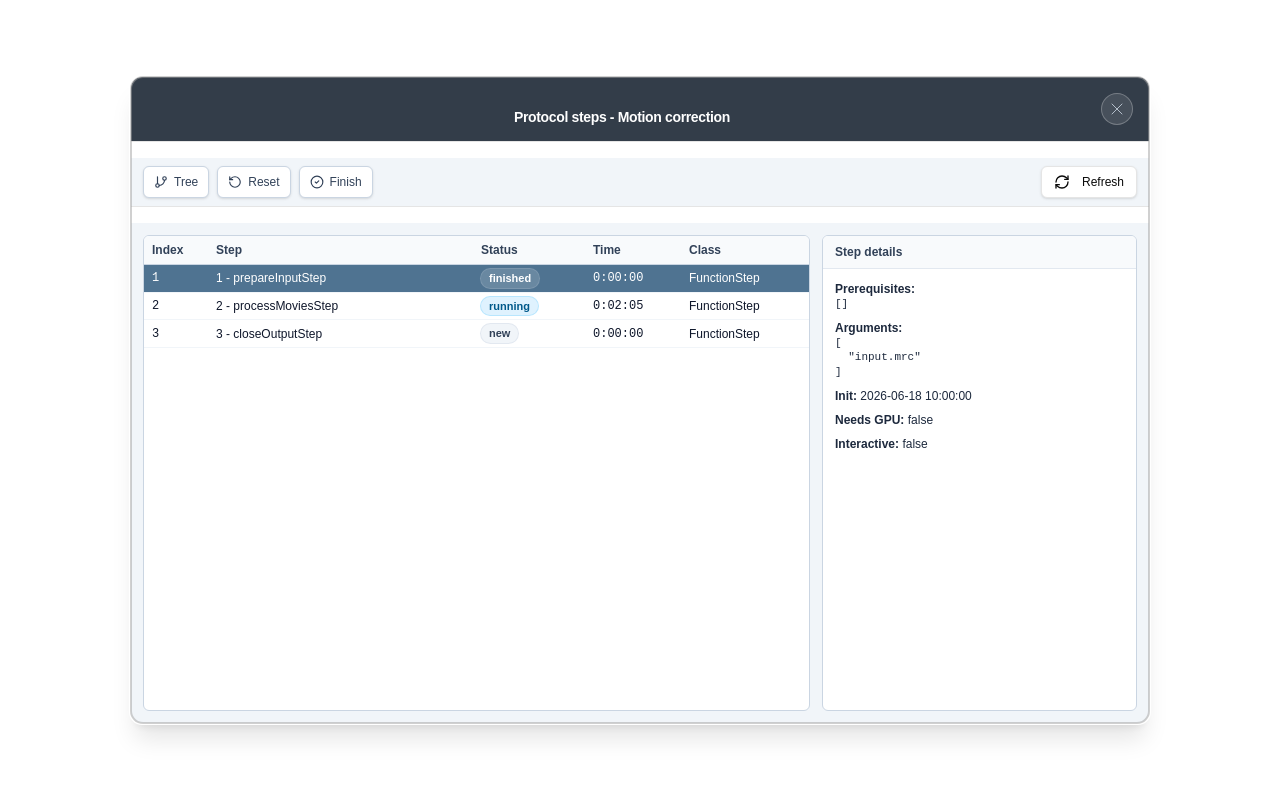
Test: ProtocolStepsDeveloperDialog › marks the selected step as finished
Expected: the text "1 - prepareInputStep" is shown, left=216, top=271, right=326, bottom=285
Click the text "2 - processMoviesStep". click: coordinates (277, 306)
box: left=216, top=299, right=338, bottom=313
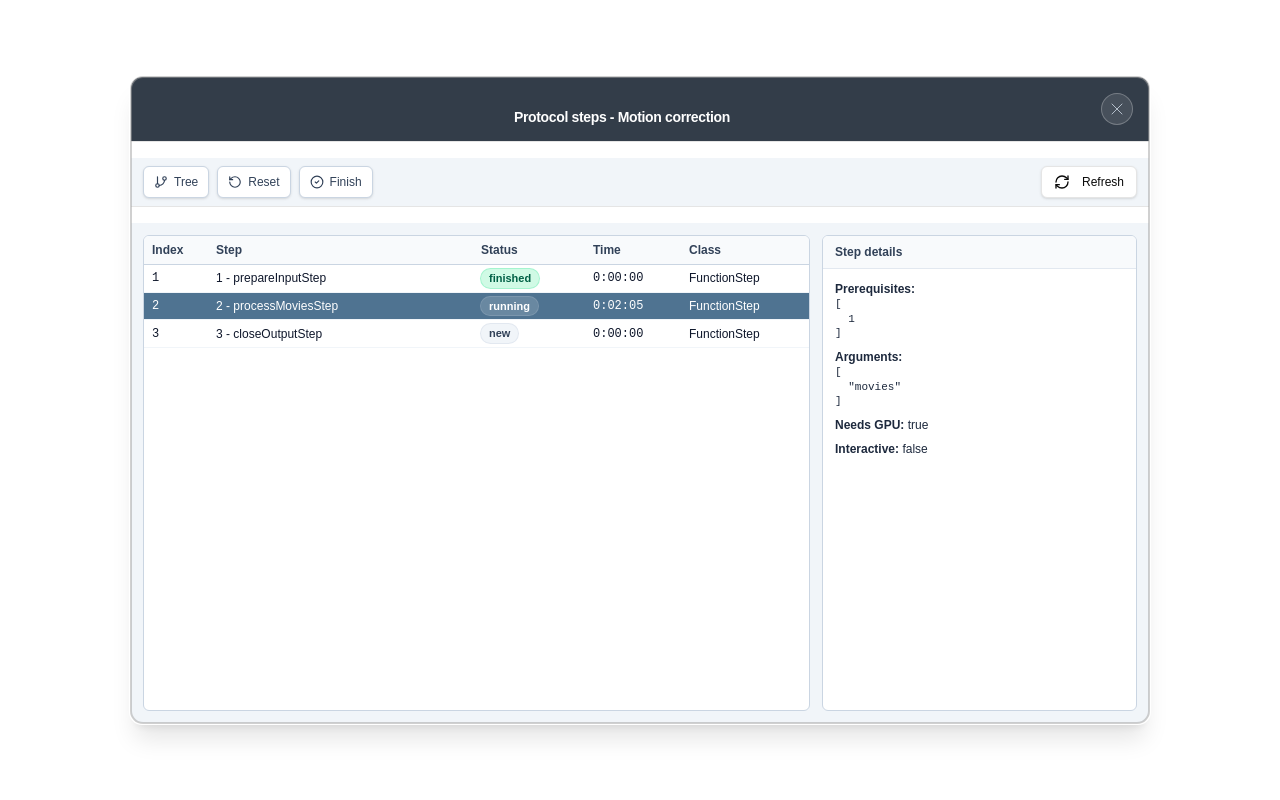
Click the button "Finish". click: coordinates (336, 182)
box: left=299, top=166, right=373, bottom=198
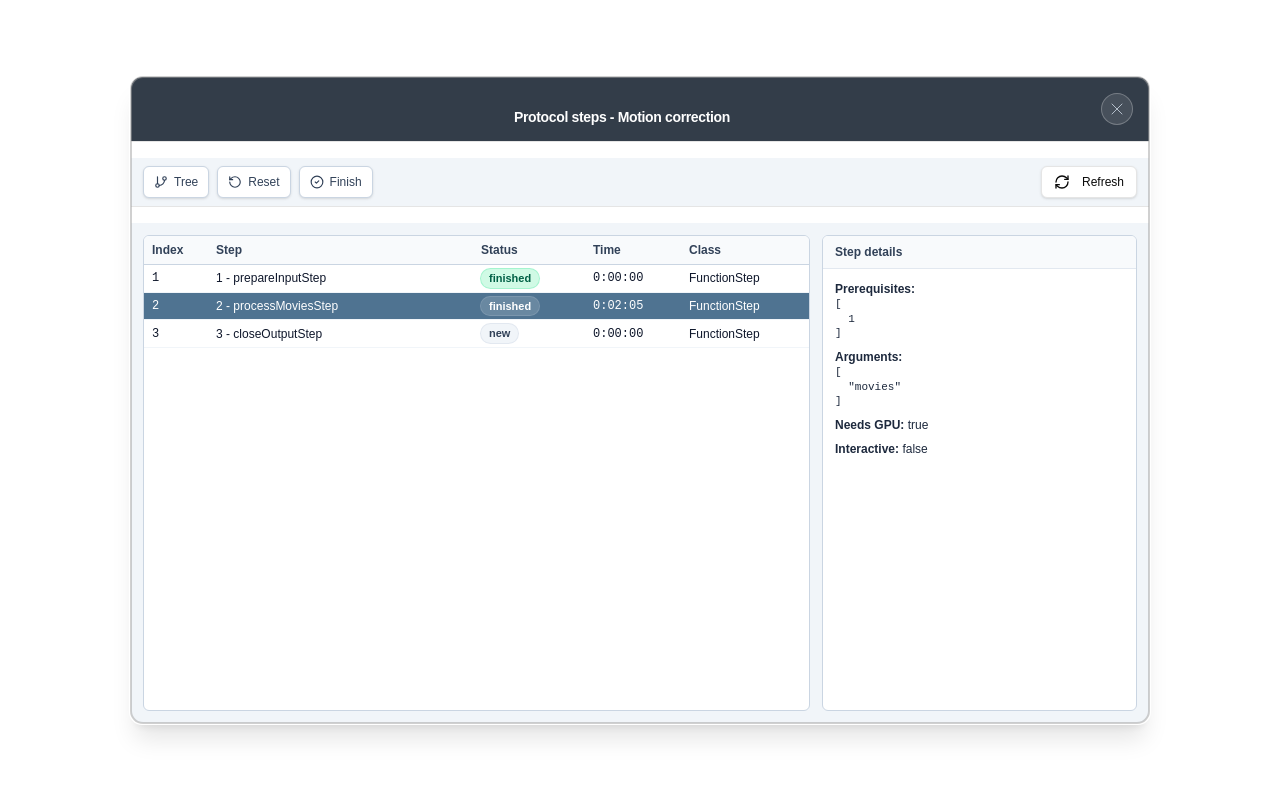
Expected: the text "2 - processMoviesStep" is shown, left=144, top=292, right=809, bottom=320
Result: the text "finished" next to "processMoviesStep" is shown at left=489, top=300, right=531, bottom=312
